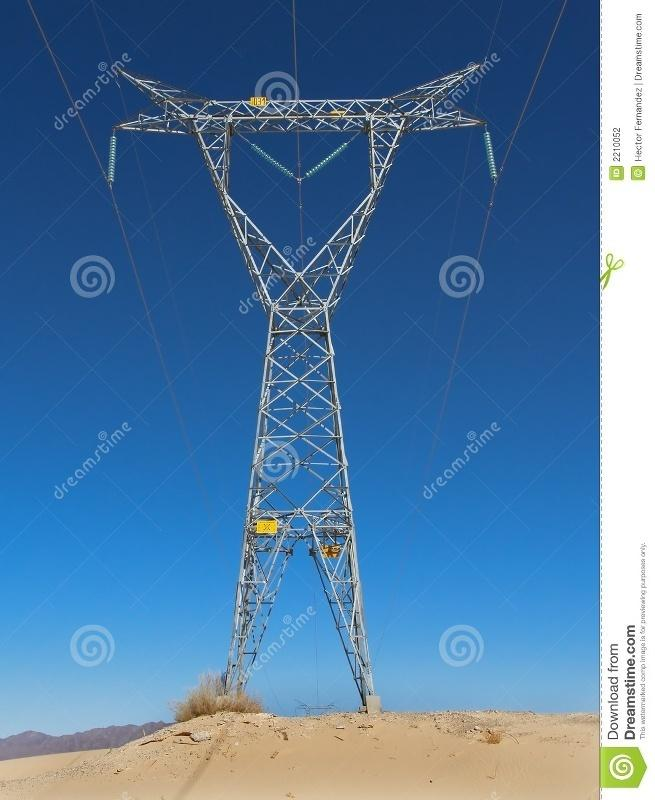power_tower: (82, 61, 511, 705)
